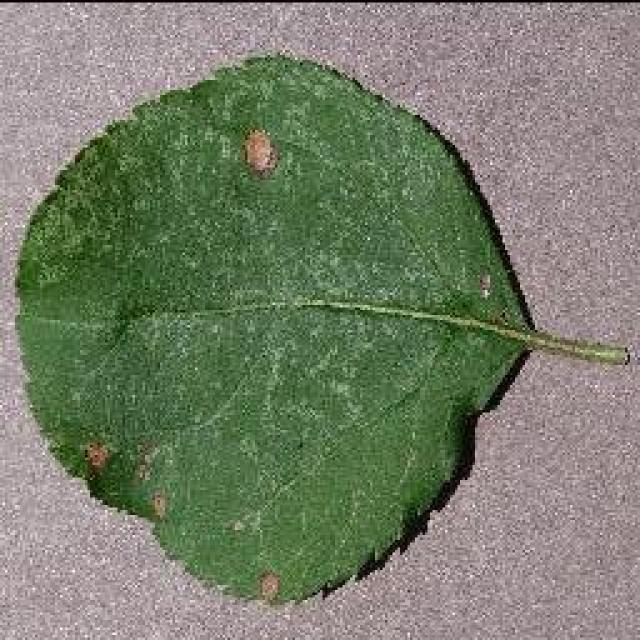Black_rot: (10, 50, 628, 605)
